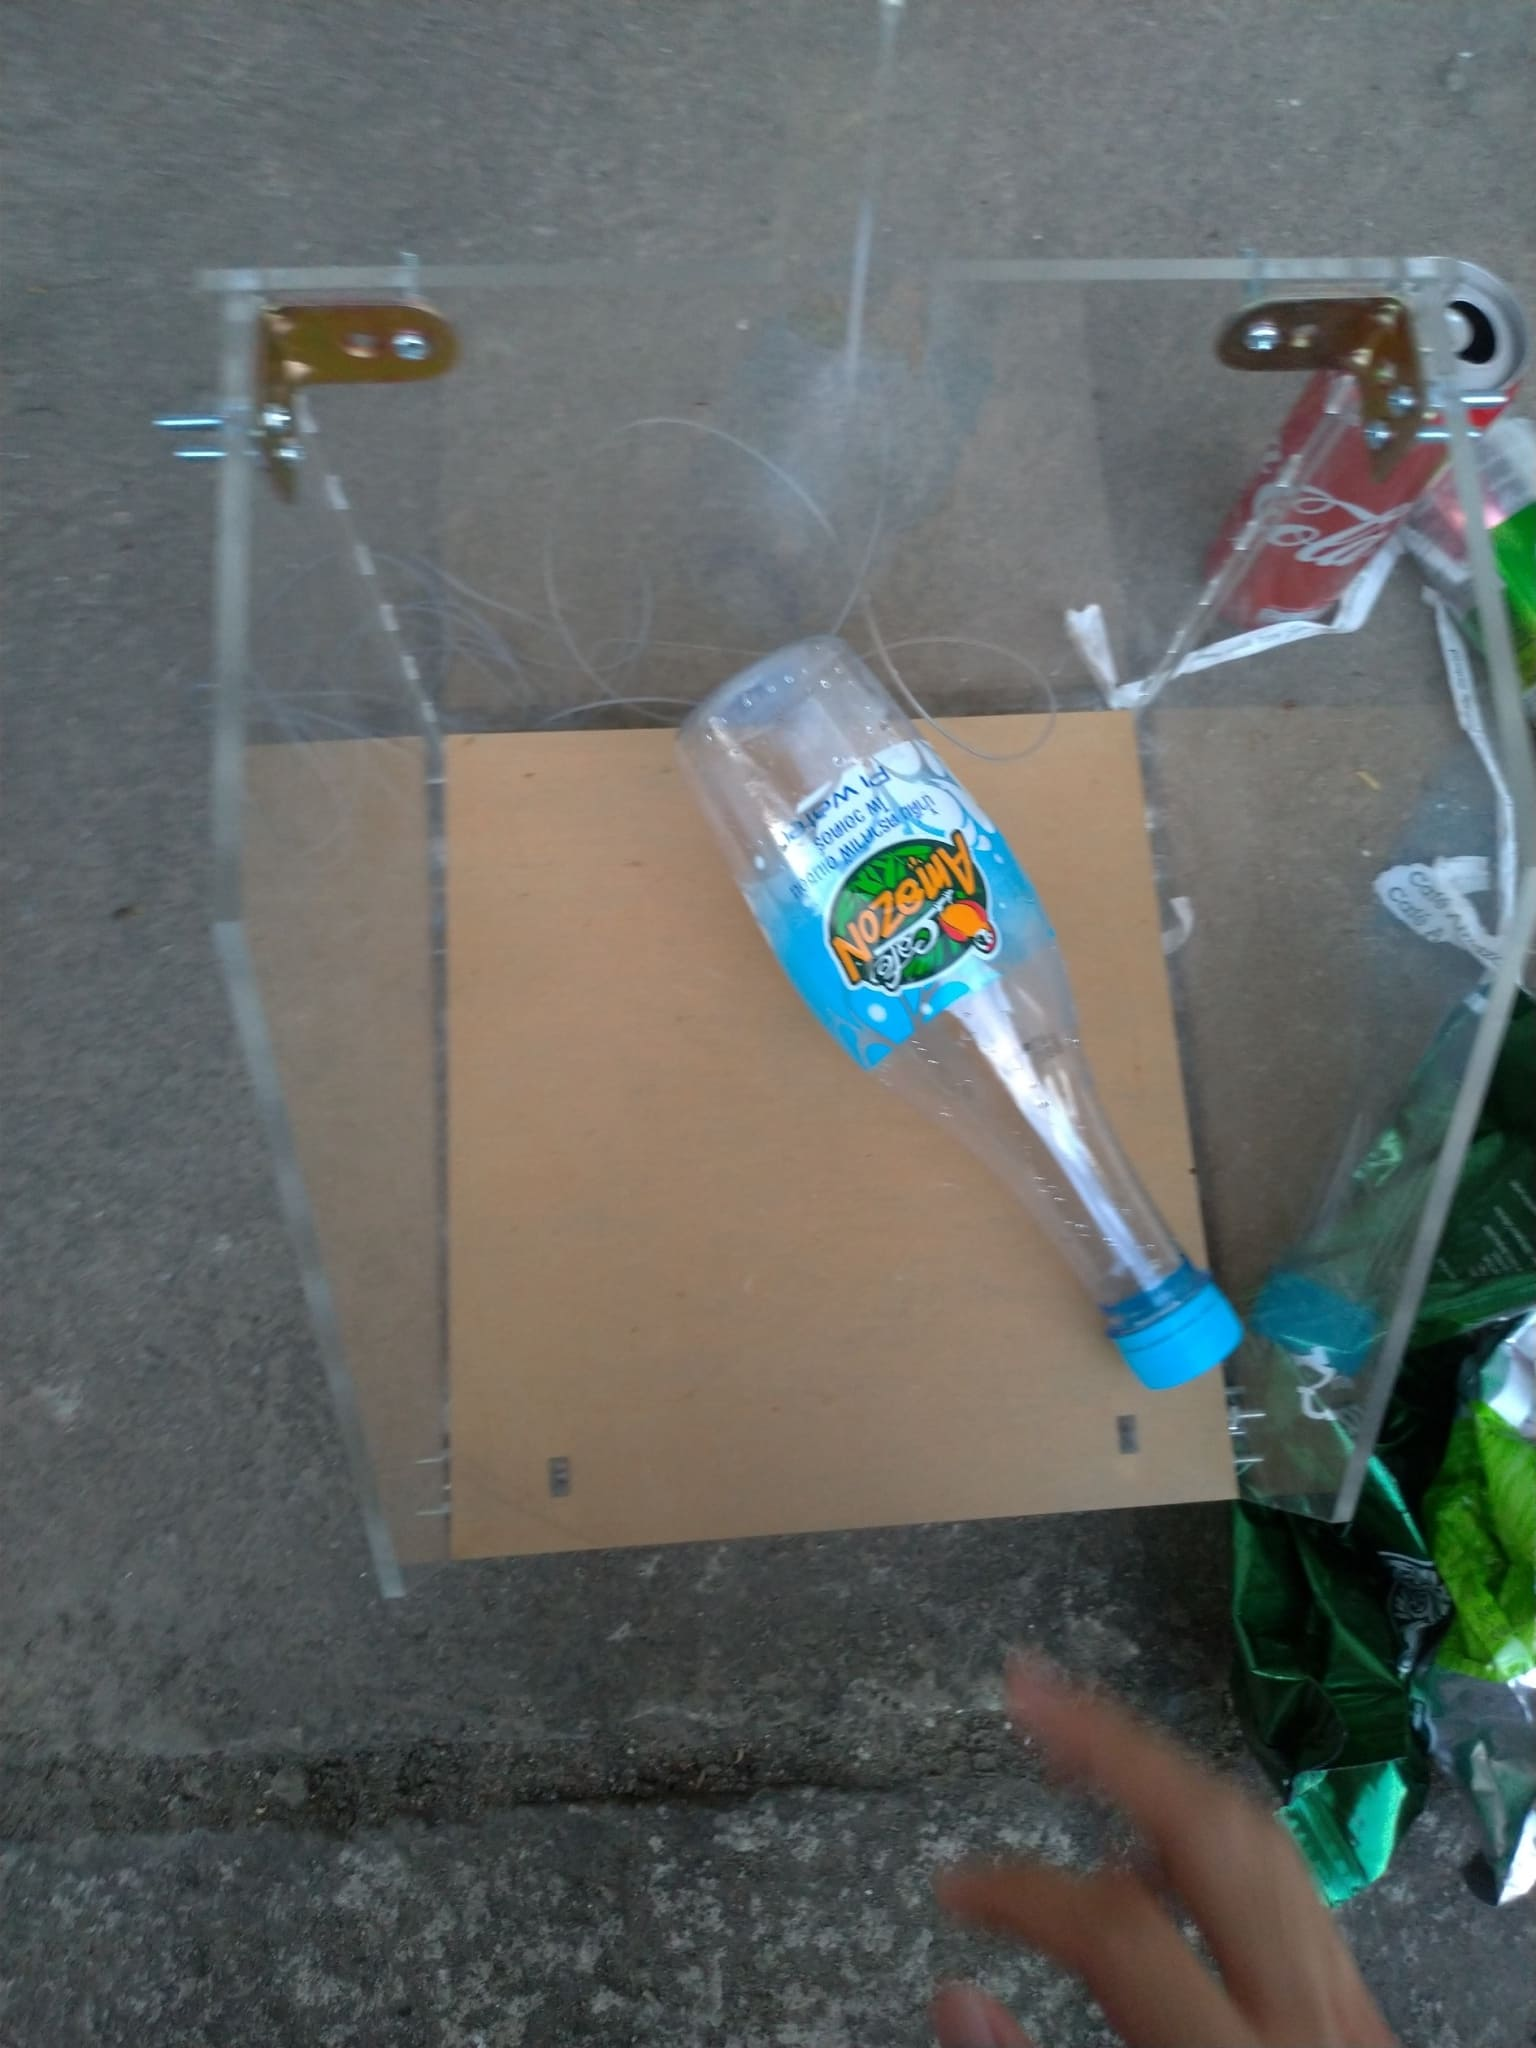AlCan: (1212, 258, 1525, 626)
Others: (1229, 951, 1536, 1904), (1392, 1326, 1536, 1892), (1091, 529, 1475, 710), (1371, 587, 1518, 974)
PlasticBottle: (678, 642, 1249, 1400)
